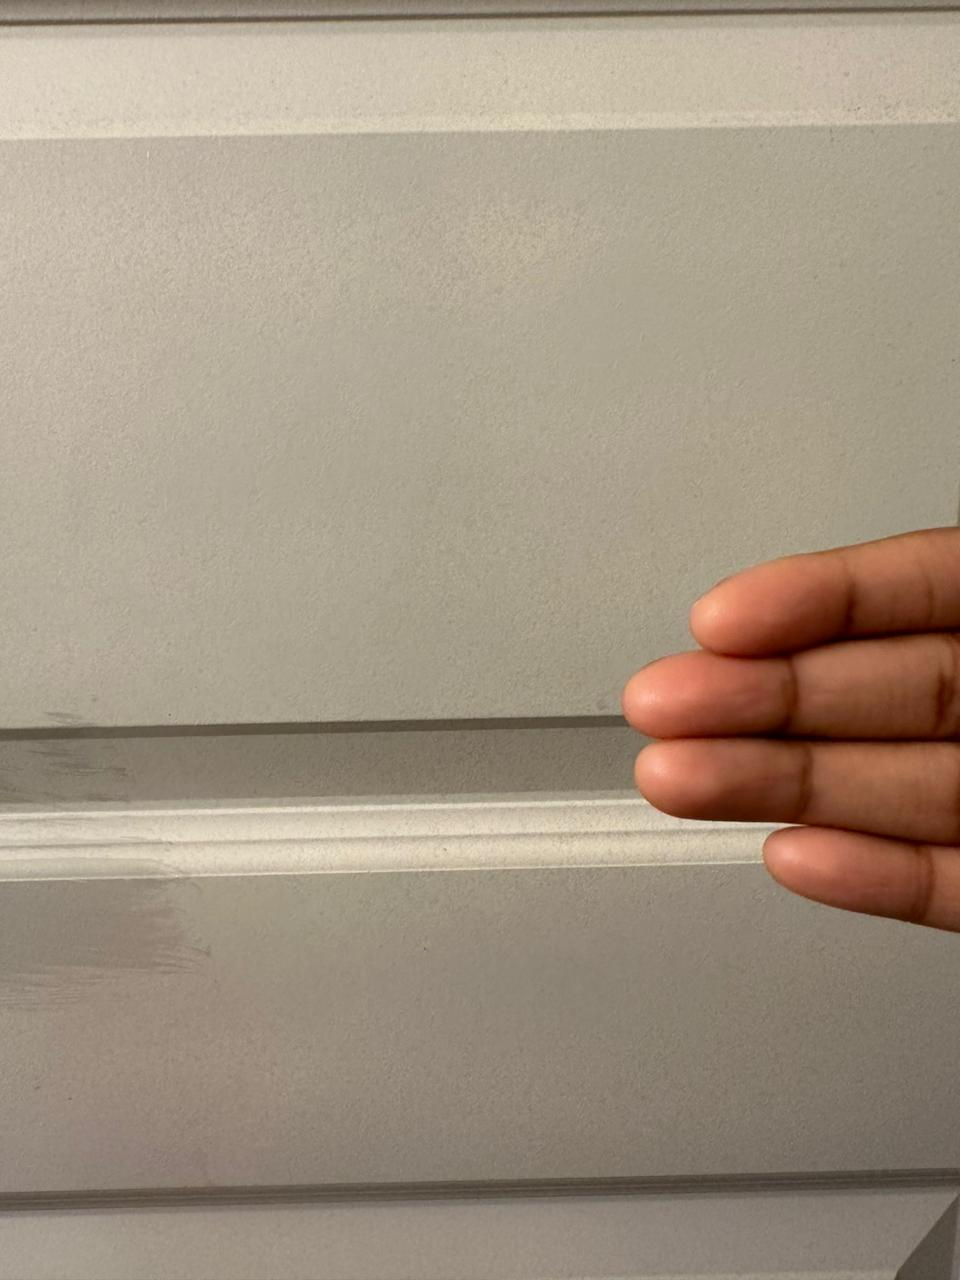finger: (665, 561, 851, 655), (758, 826, 929, 926), (614, 741, 809, 825), (615, 656, 800, 743)
